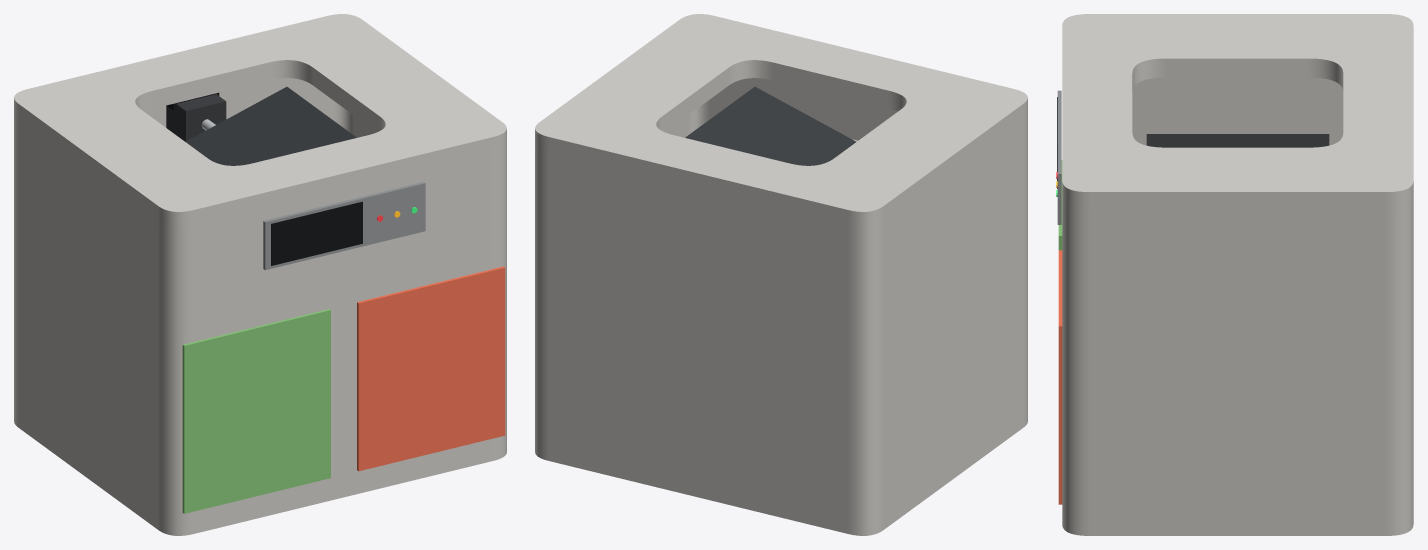
Rendered from smart-bin-casing-v2.glb.
3 renders of one model, left to right at view 1: azimuth 30°, elevation 25°; view 2: azimuth 150°, elevation 25°; view 3: azimuth 270°, elevation 25°, orthographic. The views are drawn at different scales.
Visible parts, largest first — view 1: hull_shell, roof_lid, panel_organic, panel_anorganic, tilt_platform, control_panel_plate, lcd_cutout, servo_motor; view 2: hull_shell, roof_lid, tilt_platform; view 3: hull_shell, roof_lid, tilt_platform, panel_anorganic, control_panel_plate.
Part boxes in pixels (bbox=[...]): hull_shell: bbox=[14, 78, 506, 535]; roof_lid: bbox=[14, 14, 506, 229]; panel_organic: bbox=[182, 309, 330, 513]; panel_anorganic: bbox=[357, 266, 505, 471]; tilt_platform: bbox=[185, 86, 356, 165]; control_panel_plate: bbox=[263, 181, 425, 270]; lcd_cutout: bbox=[271, 201, 362, 265]; servo_motor: bbox=[166, 94, 226, 141]; hull_shell: bbox=[535, 78, 1027, 535]; roof_lid: bbox=[535, 14, 1027, 229]; tilt_platform: bbox=[685, 86, 856, 165]; hull_shell: bbox=[1062, 77, 1413, 535]; roof_lid: bbox=[1062, 14, 1413, 211]; tilt_platform: bbox=[1146, 134, 1329, 147]; panel_anorganic: bbox=[1058, 250, 1062, 504]; control_panel_plate: bbox=[1057, 90, 1061, 224].
Bounding box in the file's own units: 0.3 × 0.27 × 0.2541.
